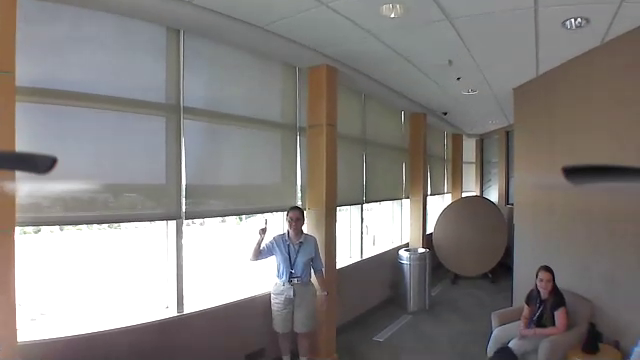up: (256, 217, 272, 241)
